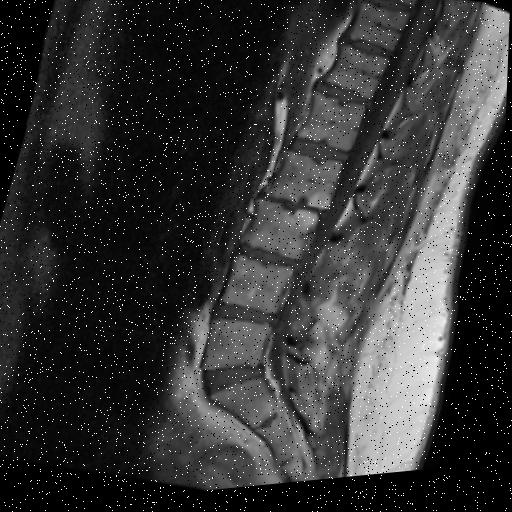L1: (299, 99, 365, 157)
L2: (268, 158, 342, 216)
L3: (242, 204, 319, 266)
L4: (222, 260, 296, 320)
L5: (206, 324, 271, 376)
S1: (215, 384, 281, 433)
